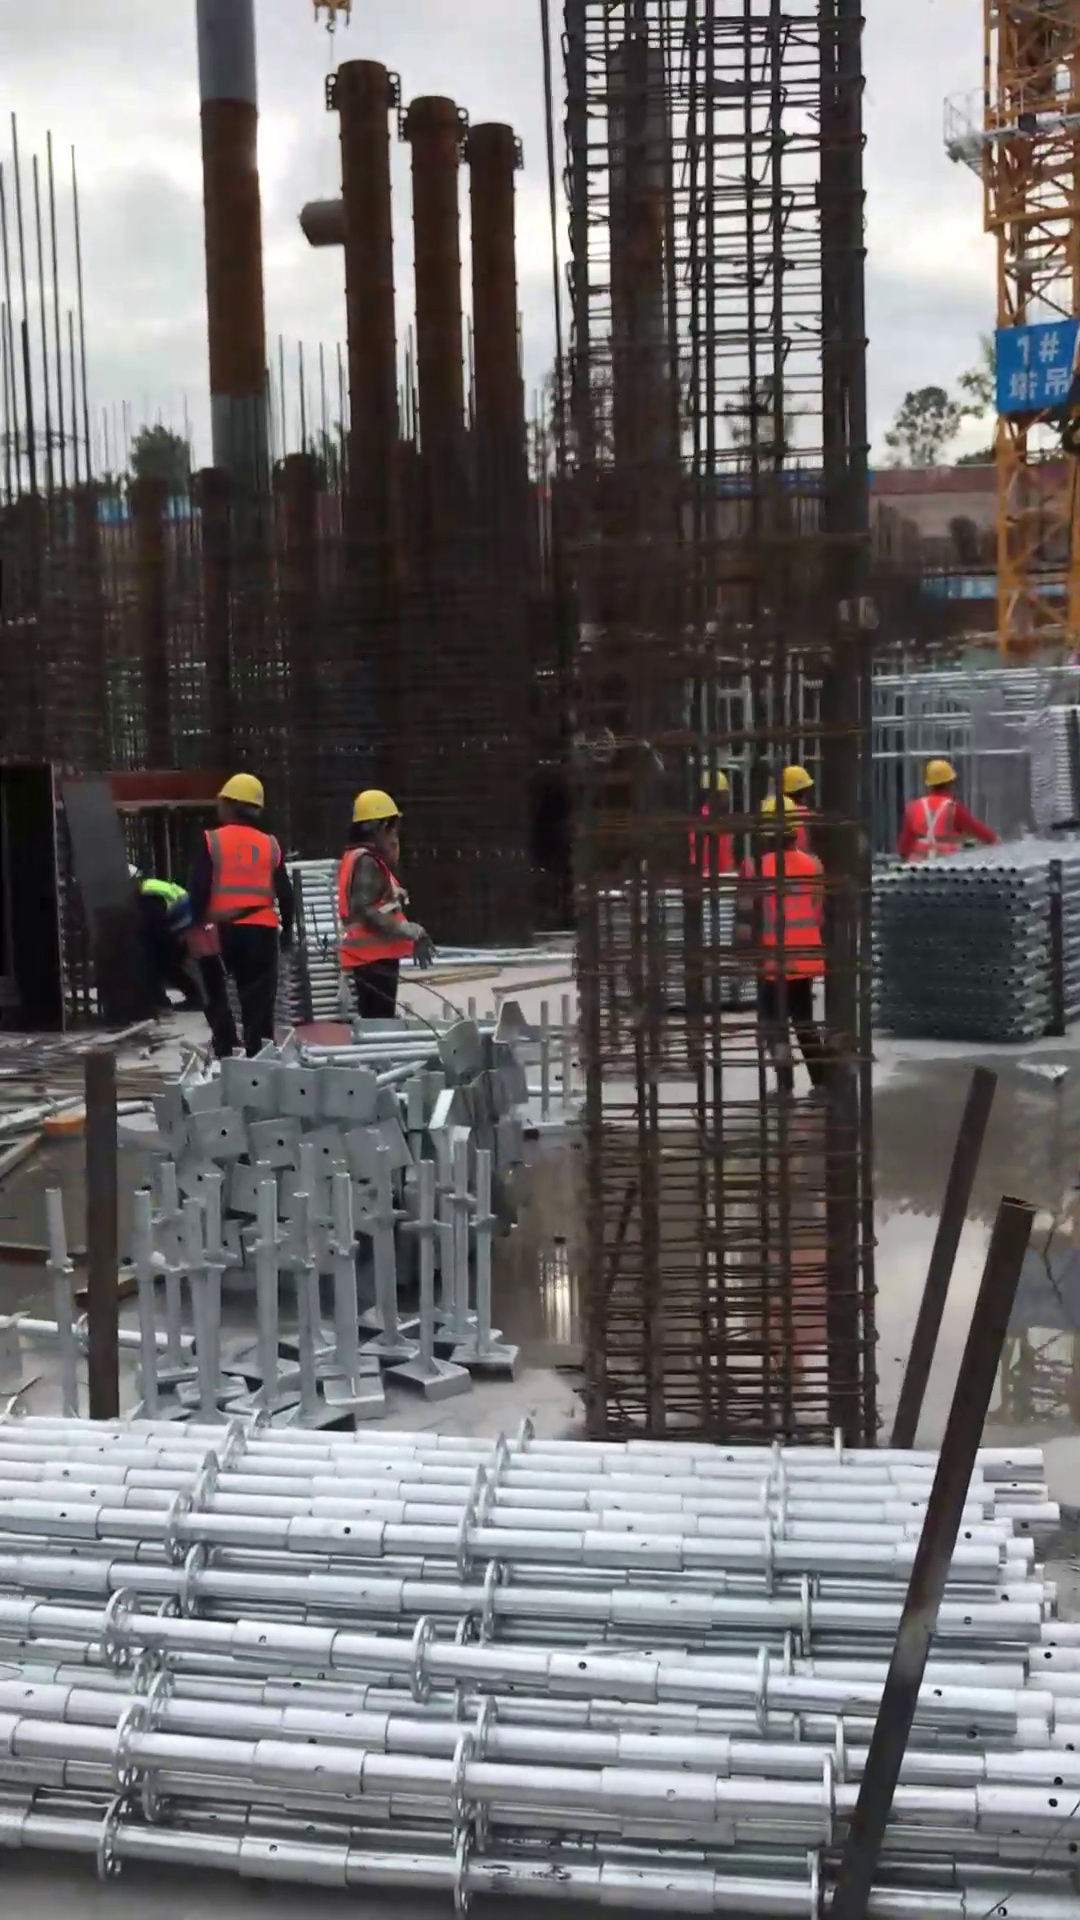helmet: (213, 769, 274, 813), (350, 787, 408, 834), (921, 752, 965, 794), (126, 861, 145, 882)
person: (194, 765, 297, 1073), (328, 776, 439, 1027), (892, 742, 1002, 874), (120, 860, 199, 1008)
scaffold: (1, 1417, 1078, 1920), (878, 844, 1076, 1058)
vest: (321, 842, 420, 974), (200, 824, 286, 944), (902, 787, 971, 868), (142, 876, 192, 931)
